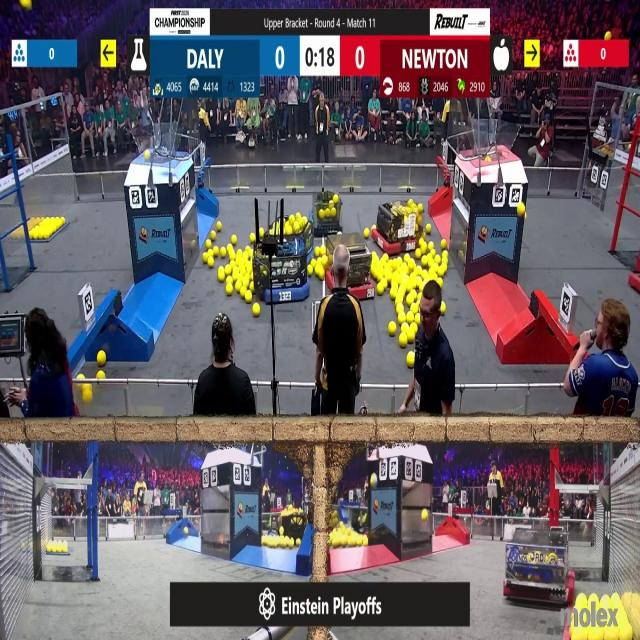ball_airborne: (369, 472, 376, 487), (144, 150, 150, 161), (604, 33, 611, 41)
ball_ground: (408, 352, 416, 367), (98, 352, 107, 365), (398, 335, 406, 348), (218, 269, 225, 282), (225, 283, 232, 295), (421, 510, 428, 522), (252, 306, 259, 318), (440, 266, 448, 276), (378, 283, 384, 295), (245, 291, 252, 301), (318, 270, 324, 280), (439, 278, 445, 288), (98, 370, 105, 378), (208, 258, 214, 267), (415, 249, 421, 258), (408, 313, 414, 322), (442, 240, 447, 250), (309, 266, 314, 276), (442, 303, 446, 315), (294, 538, 300, 546), (426, 223, 431, 232), (250, 234, 255, 243), (232, 237, 238, 244), (396, 306, 402, 313), (217, 221, 221, 231), (435, 255, 440, 263), (412, 304, 417, 312), (204, 253, 208, 262), (364, 230, 368, 239), (212, 232, 216, 240), (444, 250, 448, 256)
goal: (466, 122, 520, 160), (130, 132, 187, 160)
robot_blue: (254, 208, 314, 298), (310, 190, 341, 235)
robot_red: (507, 529, 578, 606), (327, 234, 374, 302), (374, 198, 421, 255)
